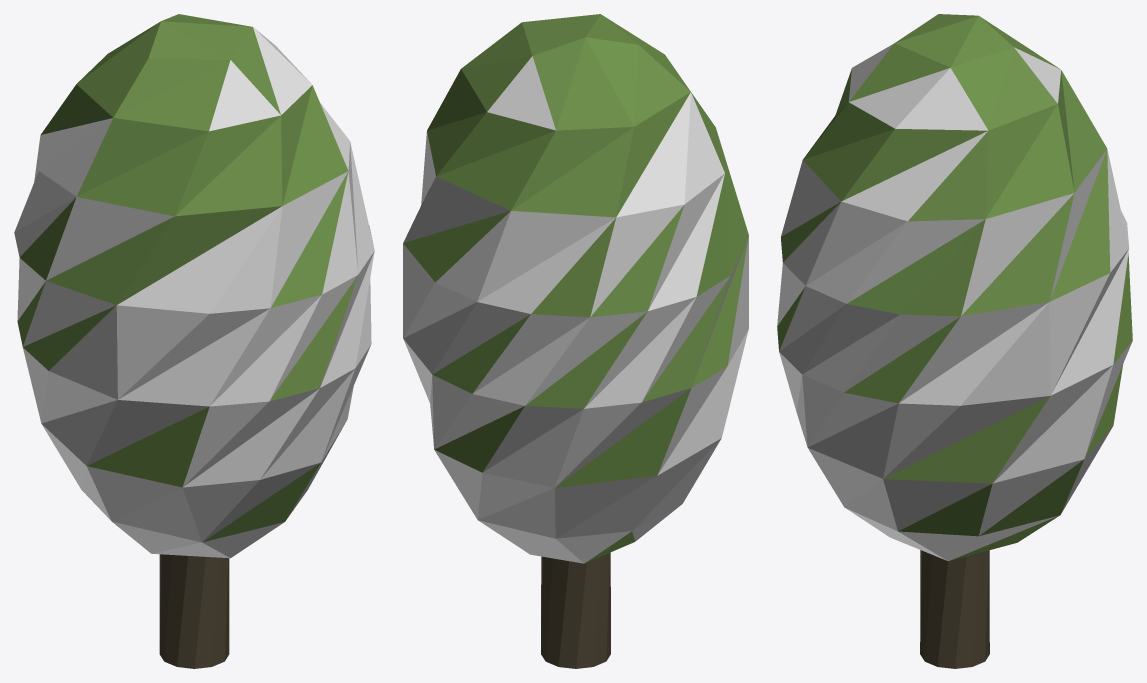
Rendered from twisted-snow-small2.dae.
3 renders of one model, left to right at view 1: azimuth 30°, elevation 25°; view 2: azimuth 150°, elevation 25°; view 3: azimuth 270°, elevation 25°, orthographic.
Parts seen in each view (by area): view 1: Kugel, Zylinder; view 2: Kugel, Zylinder; view 3: Kugel, Zylinder.
Boxes of the visible parts, bbox=[...] form: Kugel: bbox=[14, 14, 374, 558]; Zylinder: bbox=[159, 554, 229, 668]; Kugel: bbox=[403, 14, 748, 563]; Zylinder: bbox=[541, 552, 610, 668]; Kugel: bbox=[777, 14, 1132, 561]; Zylinder: bbox=[920, 550, 989, 668].
Size of the model in its own units: 4.54 by 9.01 by 4.63.
